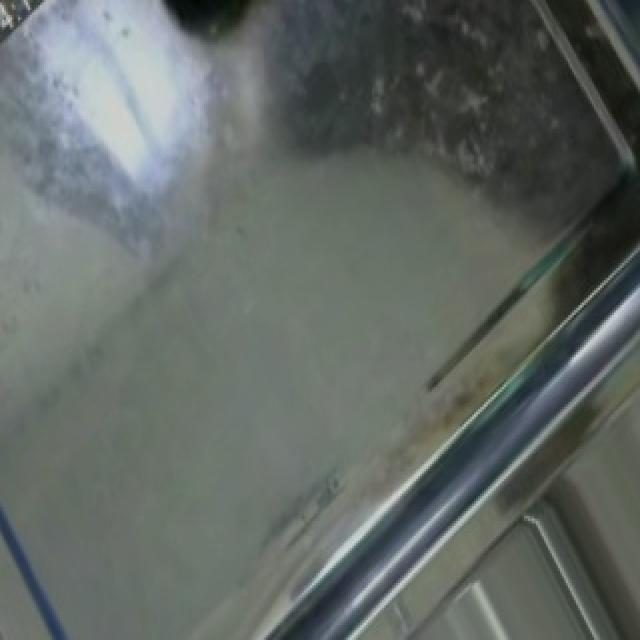Fruit: (146, 0, 296, 27)
